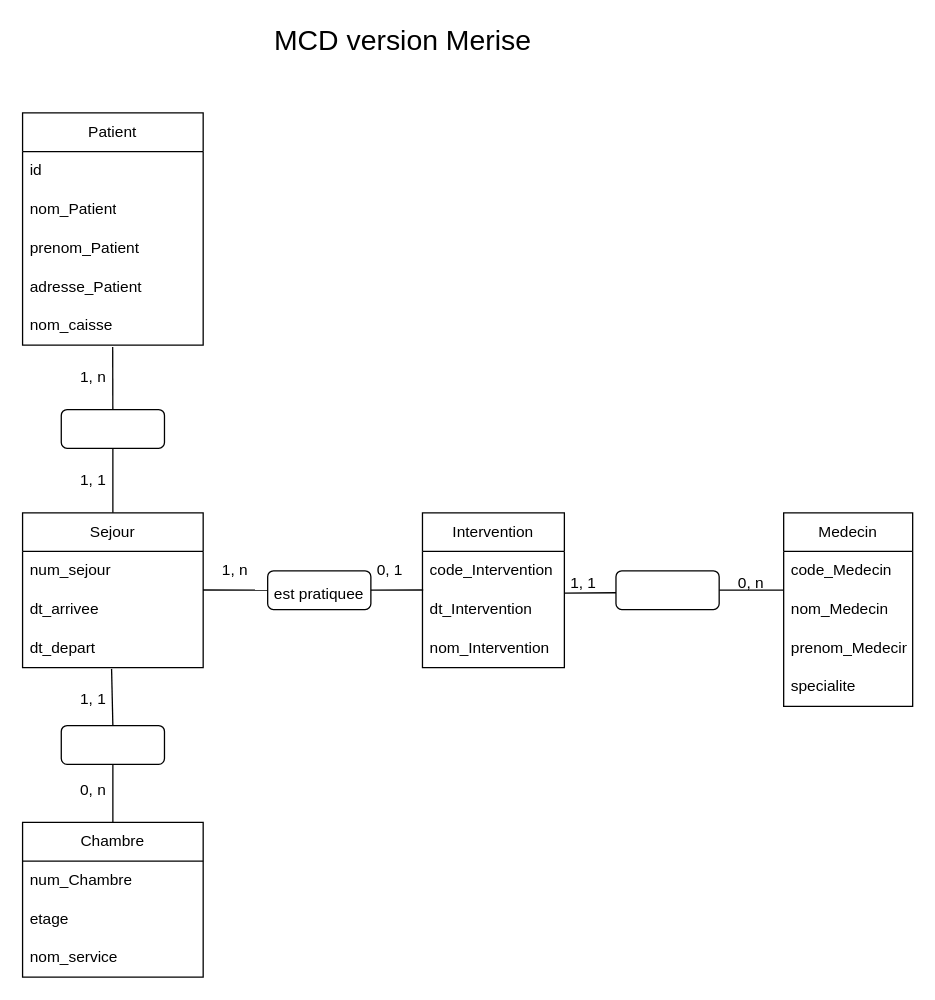
The diagram is 935 pixels wide and 1000 high, and some of its shapes have lost their labels. Here are the shapes that lost their labels. From the top down, the centre of each, then its label:
At (112,428): "effectue".
At (667,590): "est dirigee".
At (112,744): "s'effectue".
